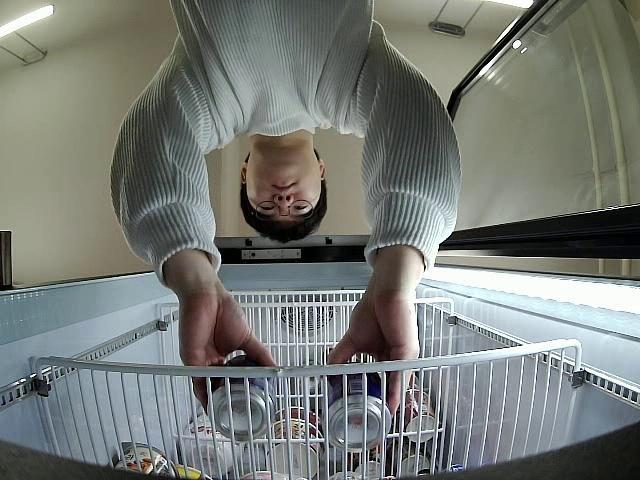14_welchsGrape: (208, 352, 278, 442), (322, 368, 388, 452)
